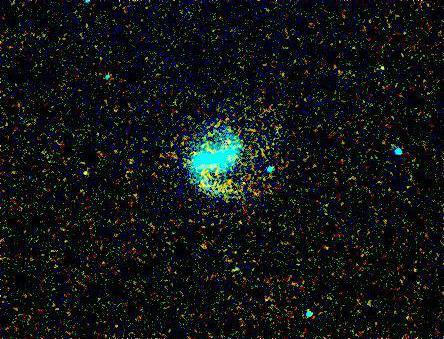star: (65, 158, 95, 188)
